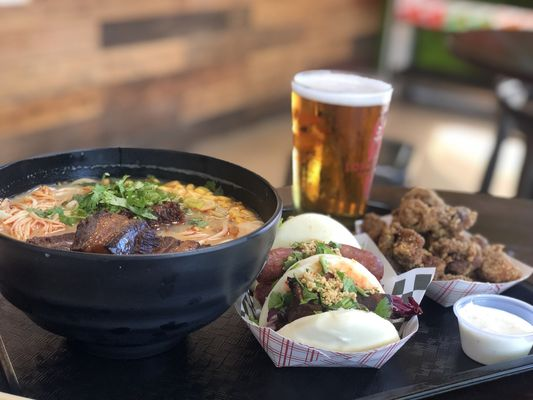pizza: (290, 68, 395, 219)
sushi: (0, 144, 283, 360), (235, 249, 422, 369), (453, 294, 533, 365)
